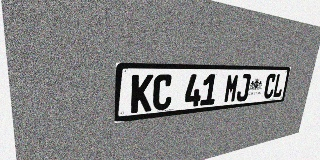1: (200, 74, 218, 106)
4: (184, 74, 203, 107)
C: (152, 74, 173, 111), (263, 74, 277, 99)
J: (236, 74, 251, 102)
K: (130, 74, 154, 113)
L: (272, 74, 285, 98)
M: (223, 74, 240, 103)
